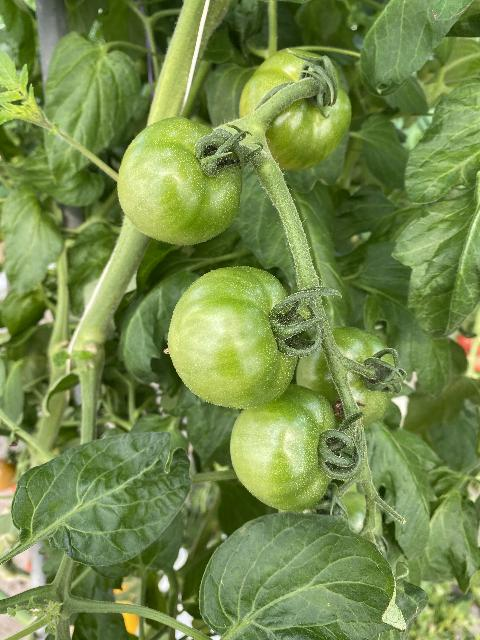l_green: (169, 266, 300, 410), (117, 117, 243, 246), (239, 48, 352, 169), (230, 384, 337, 511), (296, 326, 399, 426)
